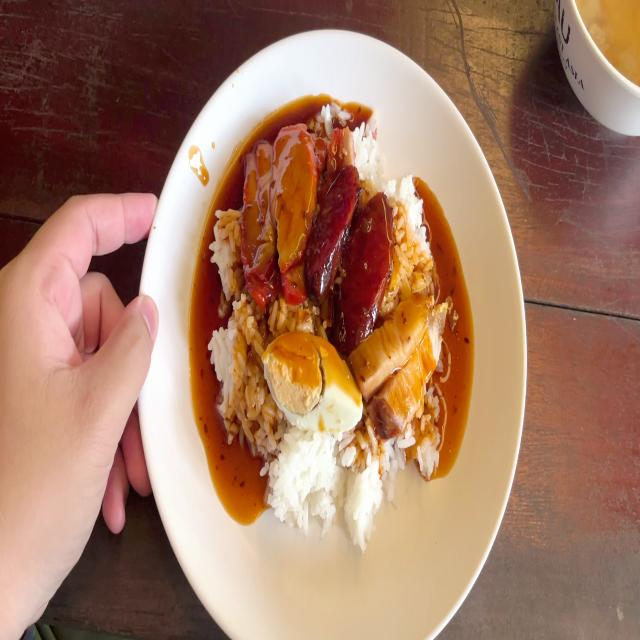boiled_egg: (264, 332, 365, 435)
chainese_sausage: (314, 176, 390, 337), (308, 173, 358, 300), (344, 212, 393, 333)
crispy_pork: (360, 294, 453, 425), (384, 305, 451, 433), (355, 292, 434, 388)
red_pork: (245, 126, 318, 300), (277, 127, 312, 291), (241, 140, 274, 286)
red_pork_and_crispy_pork: (213, 100, 451, 526)
rice: (253, 429, 384, 533), (208, 304, 263, 432), (393, 174, 436, 295)
